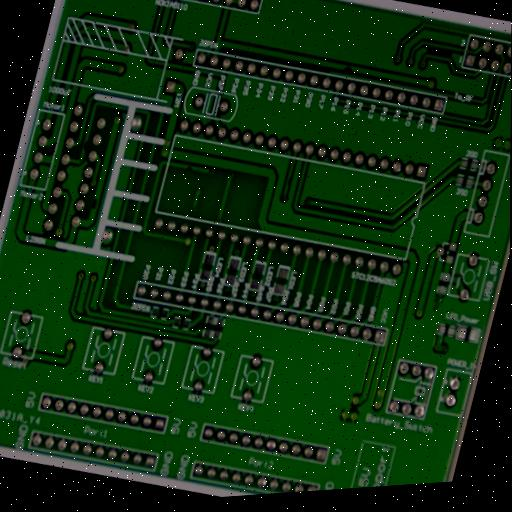mouse_bite: (340, 60, 359, 79), (87, 194, 103, 215), (78, 136, 93, 156), (282, 173, 296, 190), (183, 162, 196, 176)
